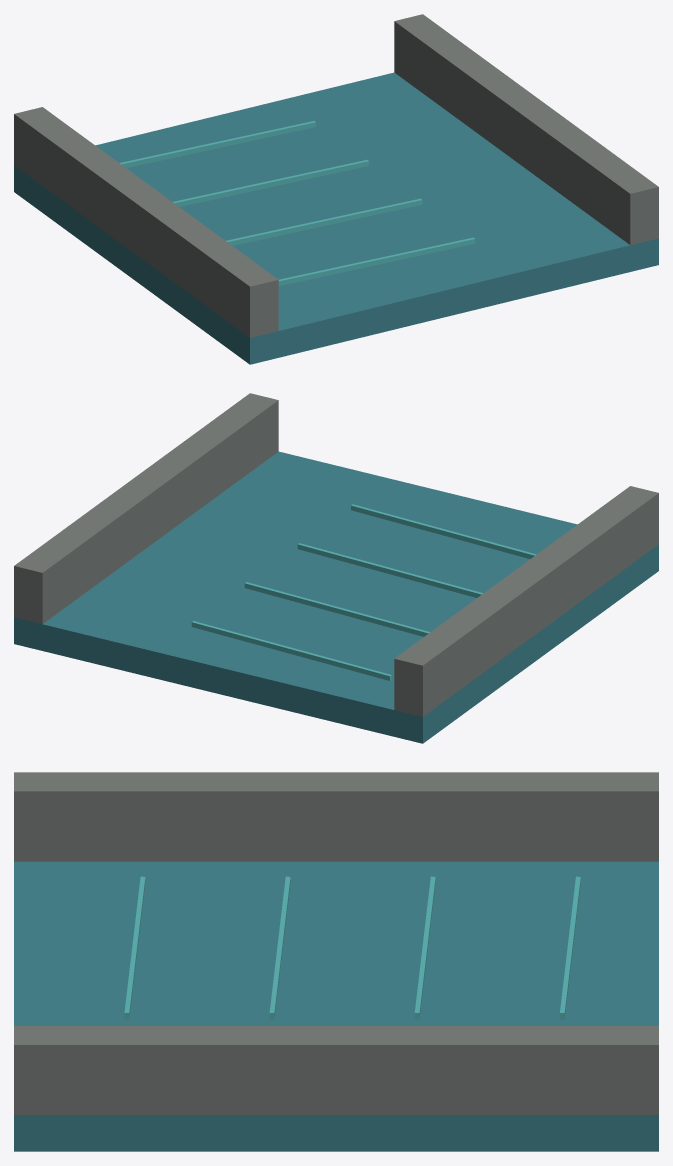
The model's file is terrain-canal-straight.lod0.glb.
The picture shows the model from 3 angles, top to bottom: view 1: azimuth 30°, elevation 25°; view 2: azimuth 150°, elevation 25°; view 3: azimuth 270°, elevation 25°; orthographic projection. The views are drawn at different scales.
Parts seen in each view (by area): view 1: terrain-canal-straight__body; view 2: terrain-canal-straight__body; view 3: terrain-canal-straight__body.
Part boxes in pixels (x1=…): terrain-canal-straight__body: x1=14, y1=14, x2=658, y2=364; terrain-canal-straight__body: x1=14, y1=393, x2=658, y2=743; terrain-canal-straight__body: x1=14, y1=772, x2=658, y2=1151.
Bounding box in the file's own units: 2 × 0.365 × 2.
